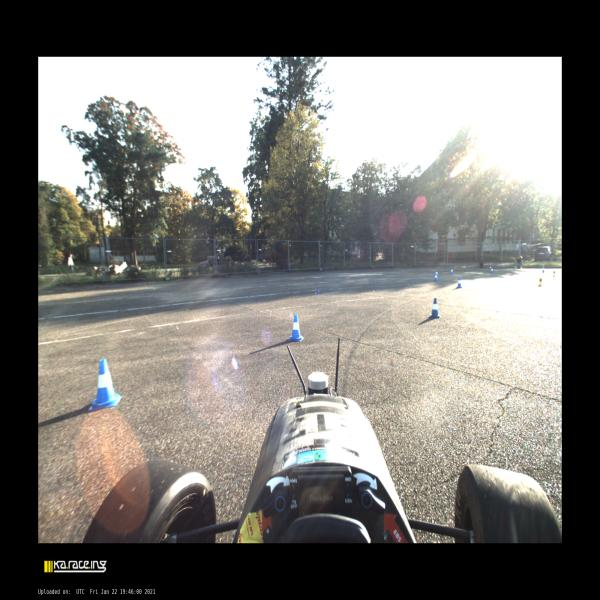blue_cone: (88, 358, 124, 411), (288, 314, 305, 342), (427, 297, 441, 319), (456, 276, 462, 288), (433, 273, 438, 281), (435, 269, 439, 277), (450, 267, 453, 275), (490, 266, 493, 274), (542, 266, 545, 273)
yellow_cone: (538, 275, 542, 286), (553, 269, 555, 277)
